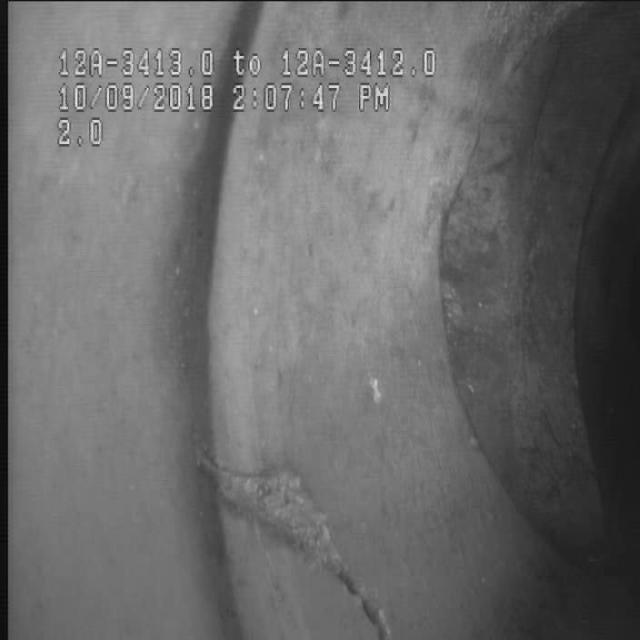Crack: (131, 324, 410, 638)
